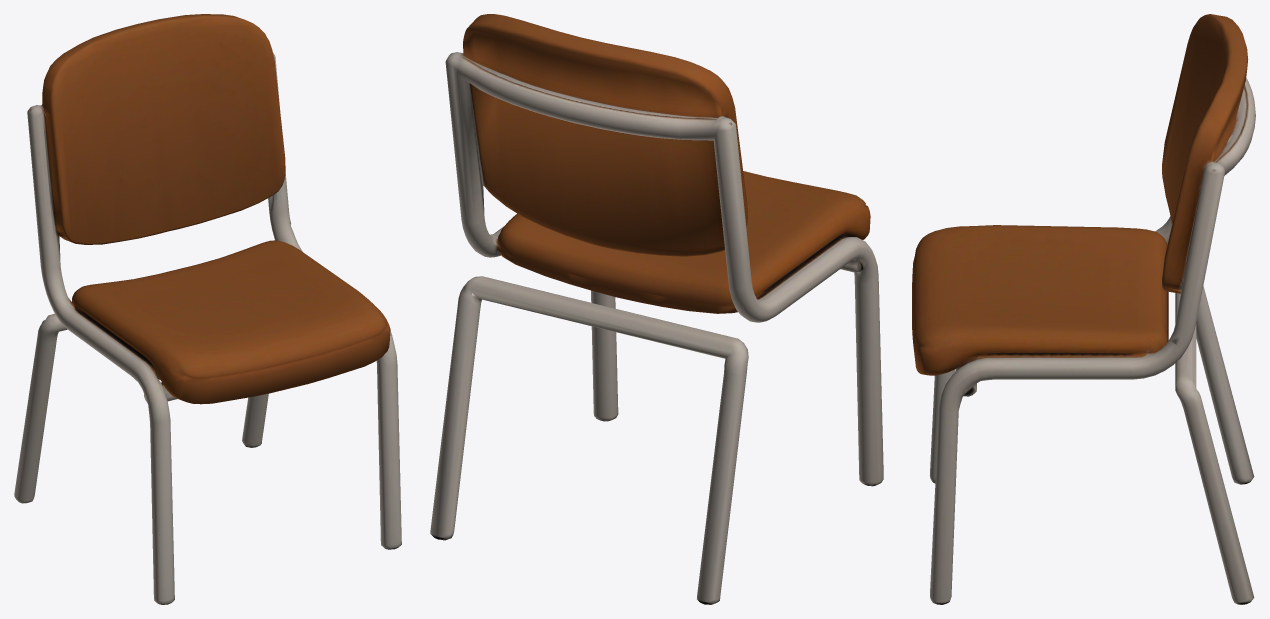
The model's file is break_room_chair_14a39c7b_v4.glb.
3 renders of one model, left to right at view 1: azimuth 30°, elevation 25°; view 2: azimuth 150°, elevation 25°; view 3: azimuth 270°, elevation 25°, orthographic. The views are drawn at different scales.
Parts seen in each view (by area): view 1: material; view 2: material; view 3: material.
Boxes of the visible parts, x1=… form: material: x1=14, y1=14, x2=401, y2=604; material: x1=430, y1=14, x2=883, y2=604; material: x1=912, y1=14, x2=1255, y2=604.
Bounding box in the file's own units: 1.07 × 1.9 × 1.21.
Materials: 1 (1 with a texture image).
